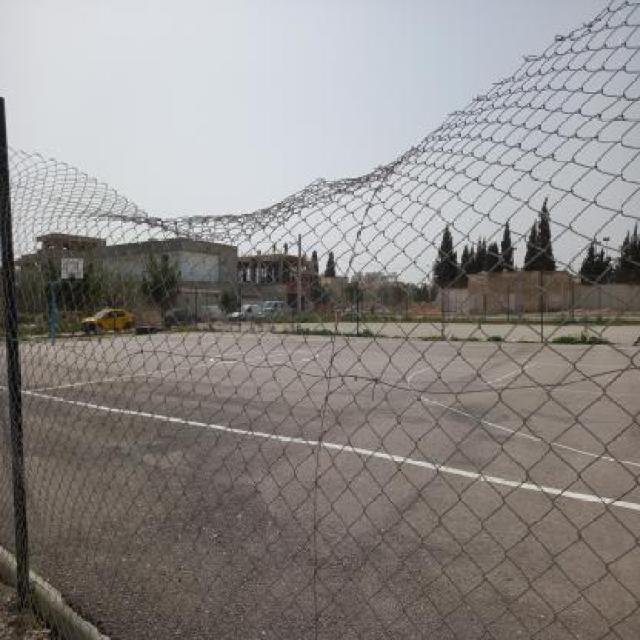fence line: (79, 57, 525, 215)
